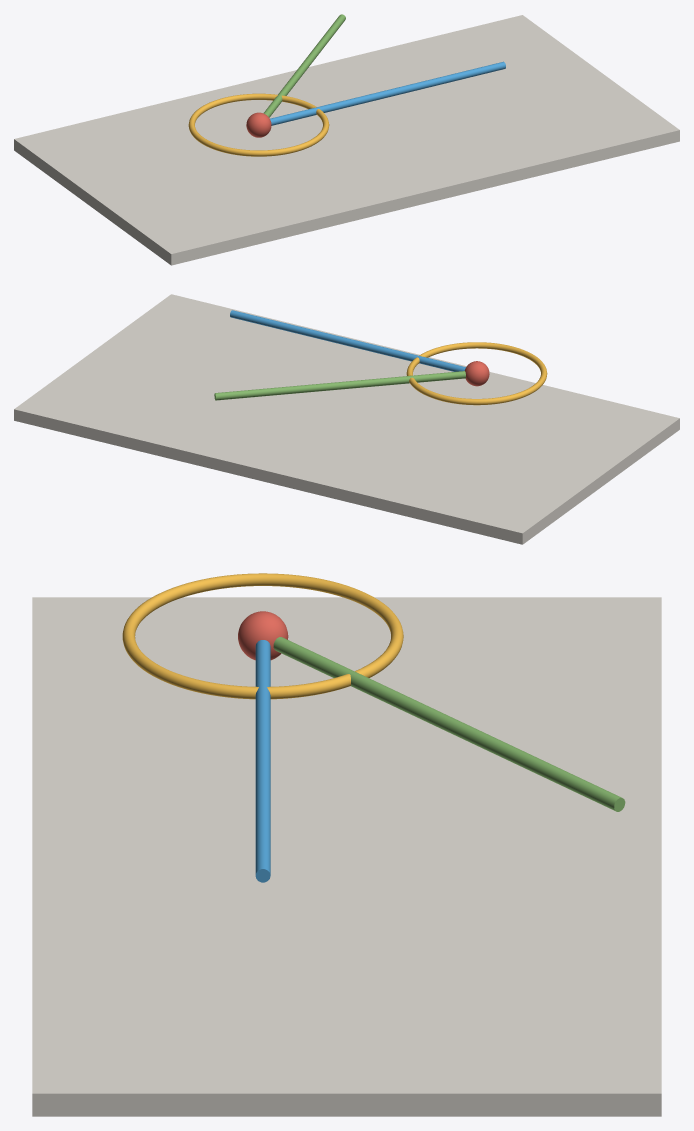
Rendered from math-geometry-angle.glb.
3 views of the same model, one above another, from view 1: azimuth 30°, elevation 25°; view 2: azimuth 150°, elevation 25°; view 3: azimuth 270°, elevation 25° (orthographic). The views are drawn at different scales.
Parts seen in each view (by area): view 1: manipulative-base, angle-arc, ray-a, ray-b, vertex; view 2: manipulative-base, angle-arc, ray-b, ray-a, vertex; view 3: manipulative-base, angle-arc, ray-b, ray-a, vertex.
Part boxes in pixels (bbox=[...]): manipulative-base: bbox=[14, 15, 679, 265]; angle-arc: bbox=[188, 93, 329, 156]; ray-a: bbox=[270, 61, 505, 125]; ray-b: bbox=[263, 14, 345, 117]; vertex: bbox=[246, 112, 271, 137]; manipulative-base: bbox=[14, 294, 679, 544]; angle-arc: bbox=[406, 342, 547, 405]; ray-b: bbox=[214, 371, 465, 400]; ray-a: bbox=[230, 310, 465, 371]; vertex: bbox=[464, 361, 489, 386]; manipulative-base: bbox=[32, 597, 661, 1116]; angle-arc: bbox=[122, 573, 403, 699]; ray-b: bbox=[273, 637, 625, 811]; ray-a: bbox=[255, 640, 270, 882]; vertex: bbox=[238, 611, 288, 660].
Size of what is drawn, in the model's own units: 2.8 by 0.39 by 1.5.
